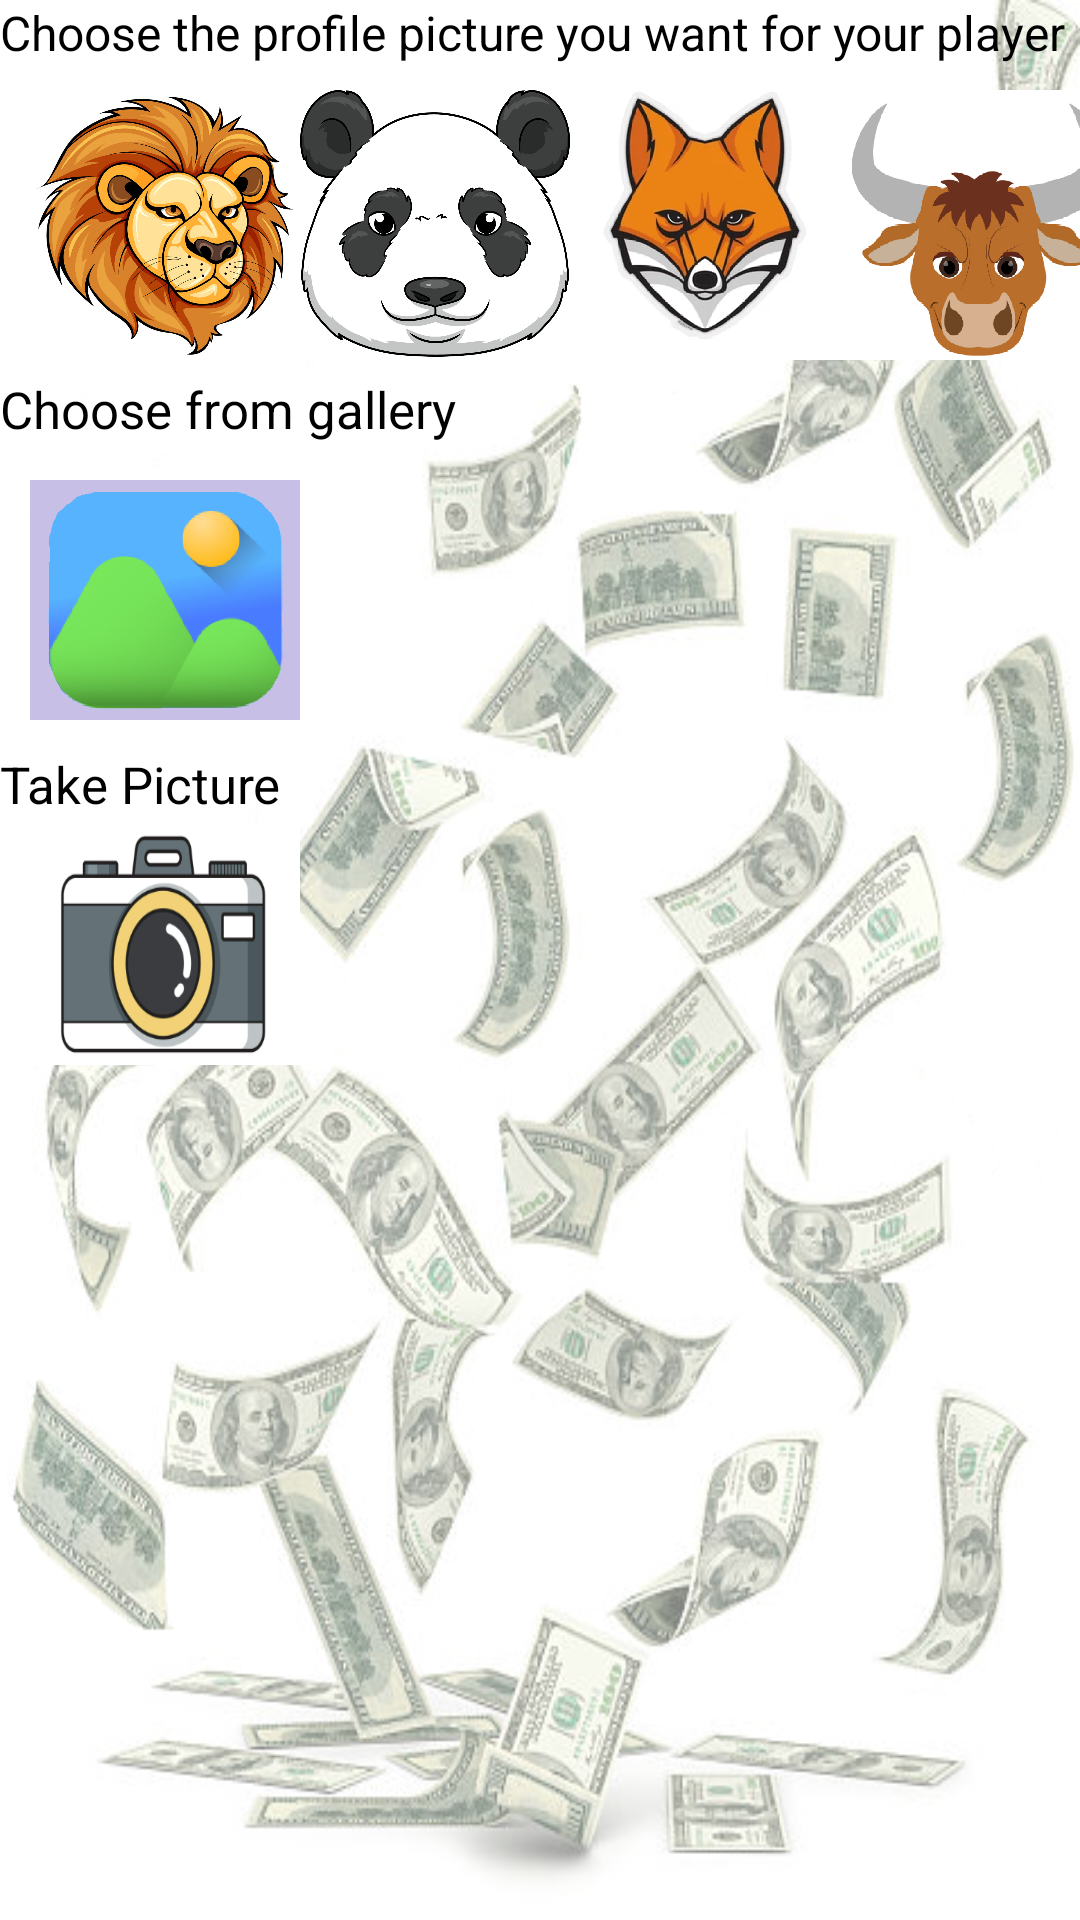

Icons on this 1080*1920 Android screen, each with the point to tap as (x,y):
camera: (163,944)
foxavatar: (705,215)
lionavatar: (165,226)
pandaavatar: (435,223)
